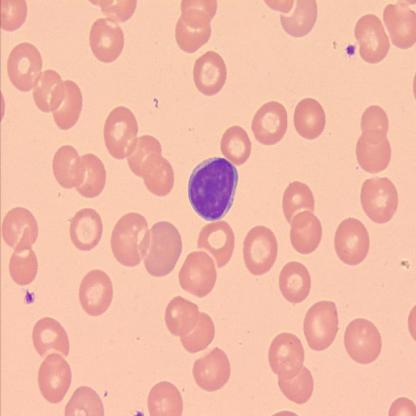Lymphocyte: (187, 156, 239, 222)
